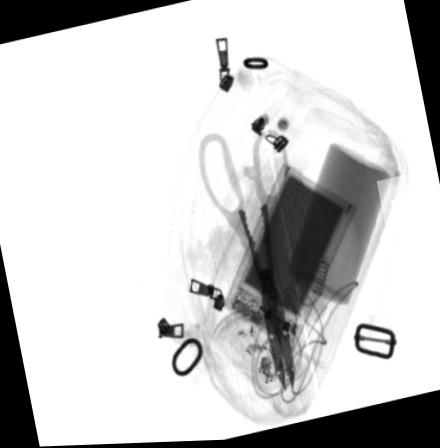Powerbank: (221, 161, 360, 356)
Scissors: (198, 128, 296, 394)
